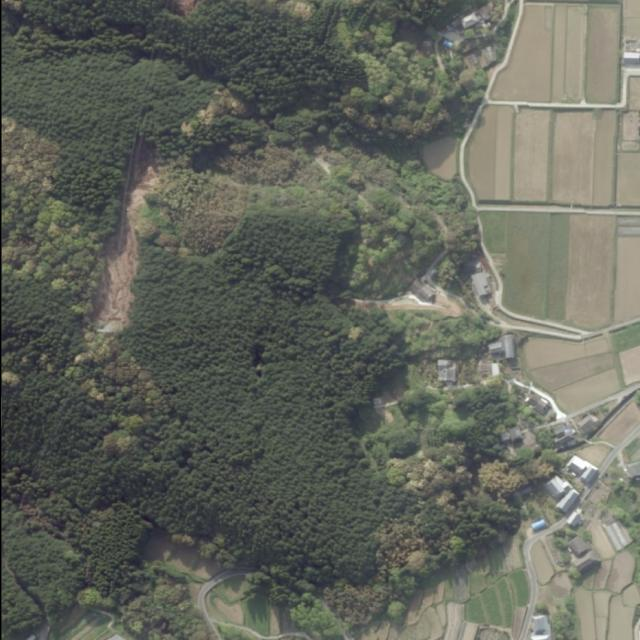landslide: (91, 139, 156, 333)
